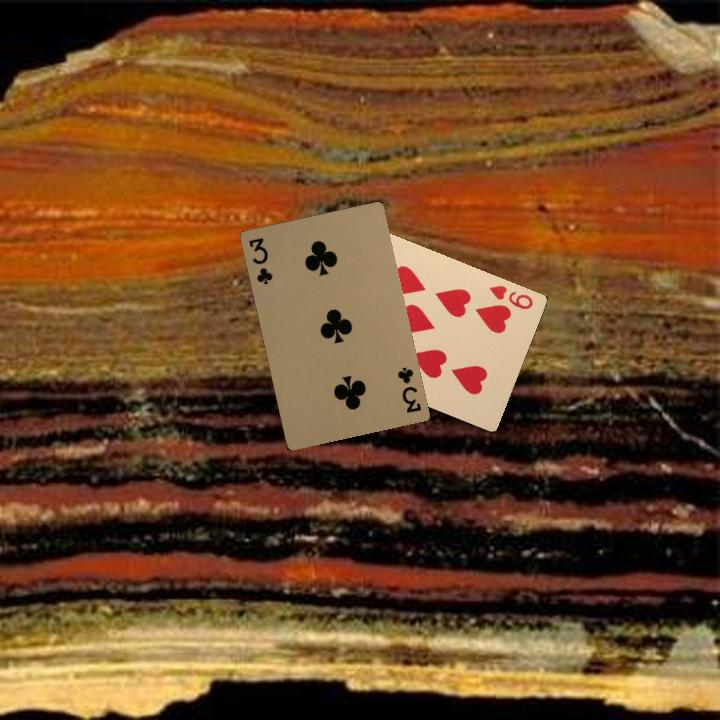3c: (245, 233, 275, 287), (393, 363, 423, 415)
9h: (485, 281, 536, 312)
